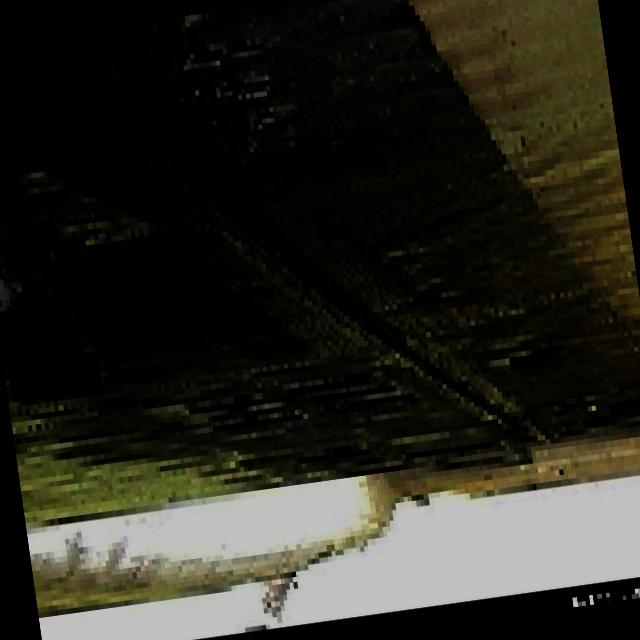crack: (180, 29, 292, 138)
